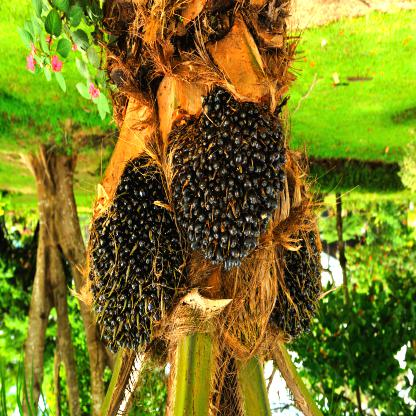palm-oil: (171, 91, 289, 272), (86, 157, 186, 360), (266, 220, 323, 346)
